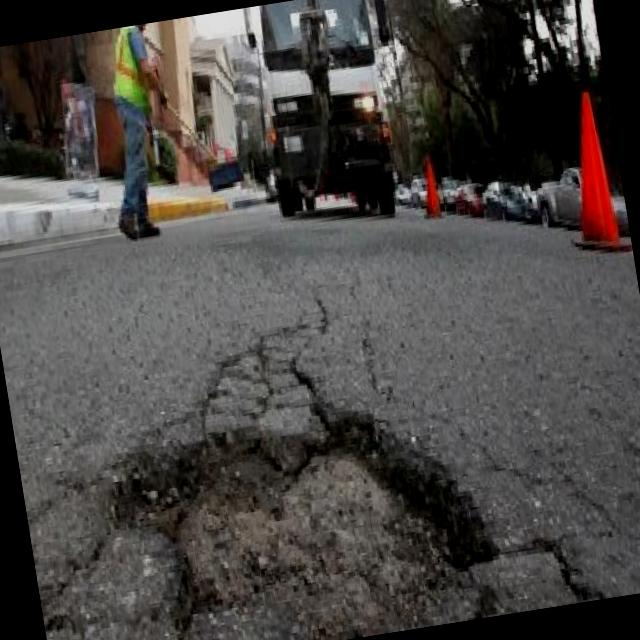Lubang: (110, 346, 498, 640)
